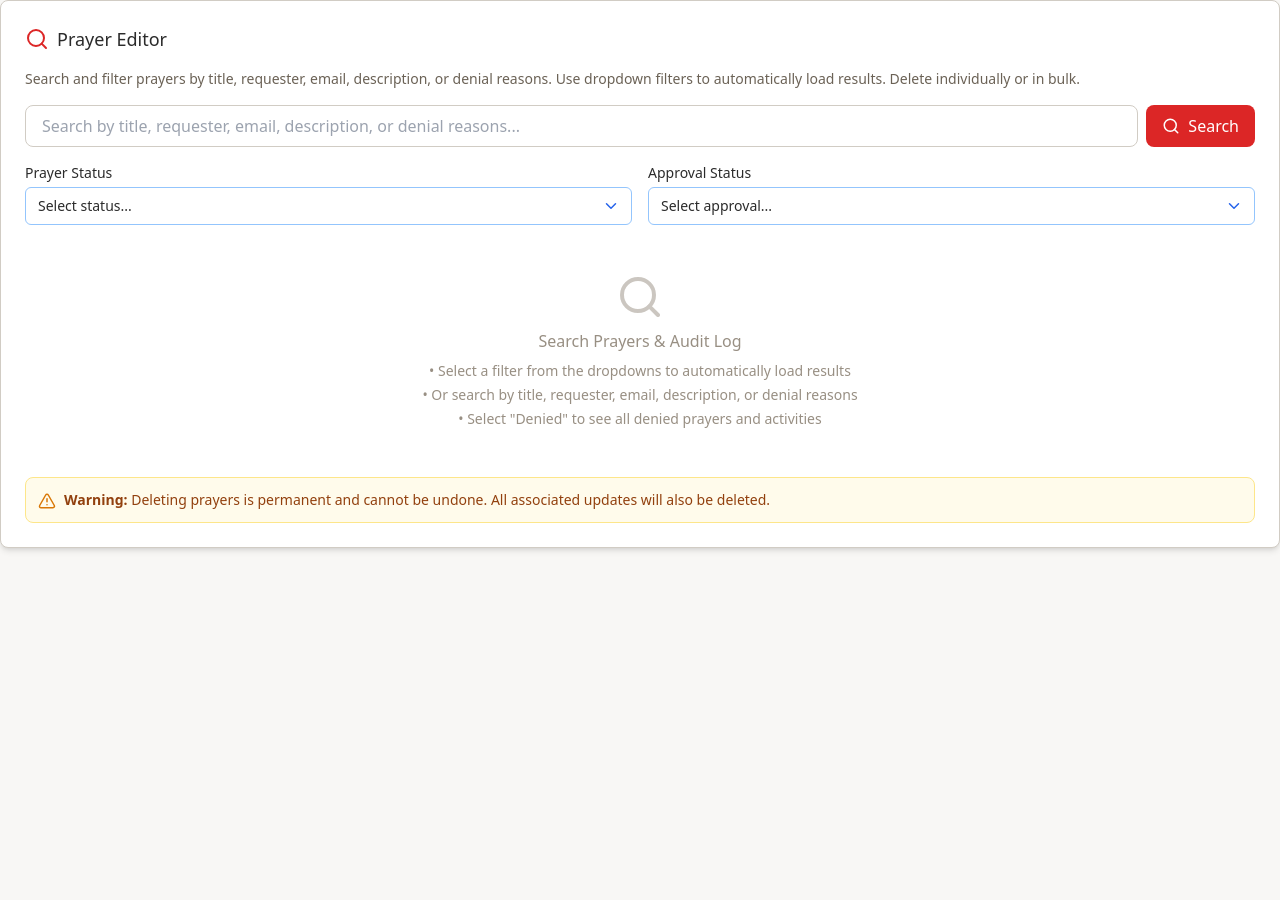
Test: PrayerSearch Component › Bulk Selection and Deletion › allows selecting individual prayers
This screenshot has width=1280, height=900.
Type "Test" into the field with placeholder "Search by title, requester, email, description, or denial reasons" at (582, 126), box [25,105,1138,147]
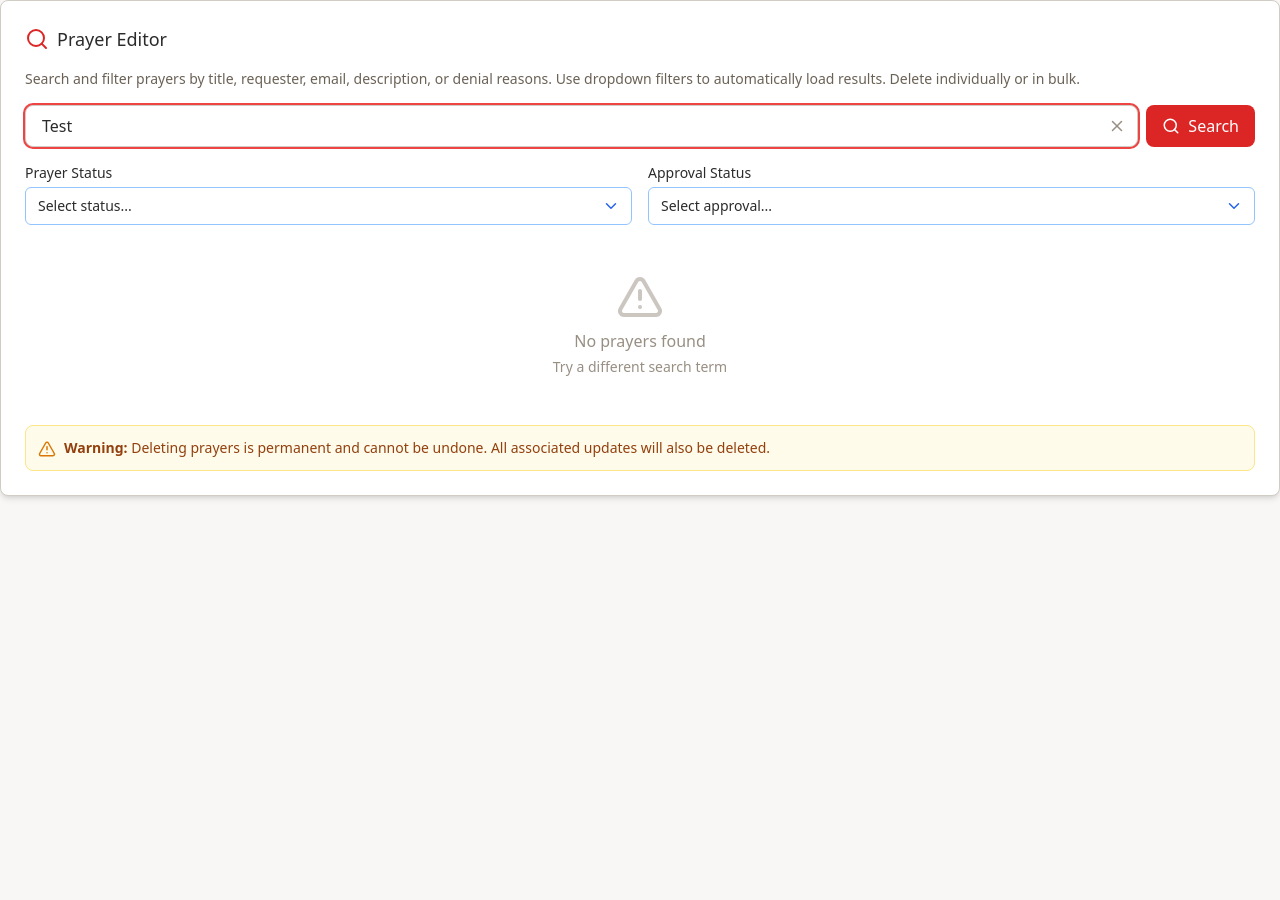
Click the button "Search" at (1201, 126), box [1146,105,1255,147]
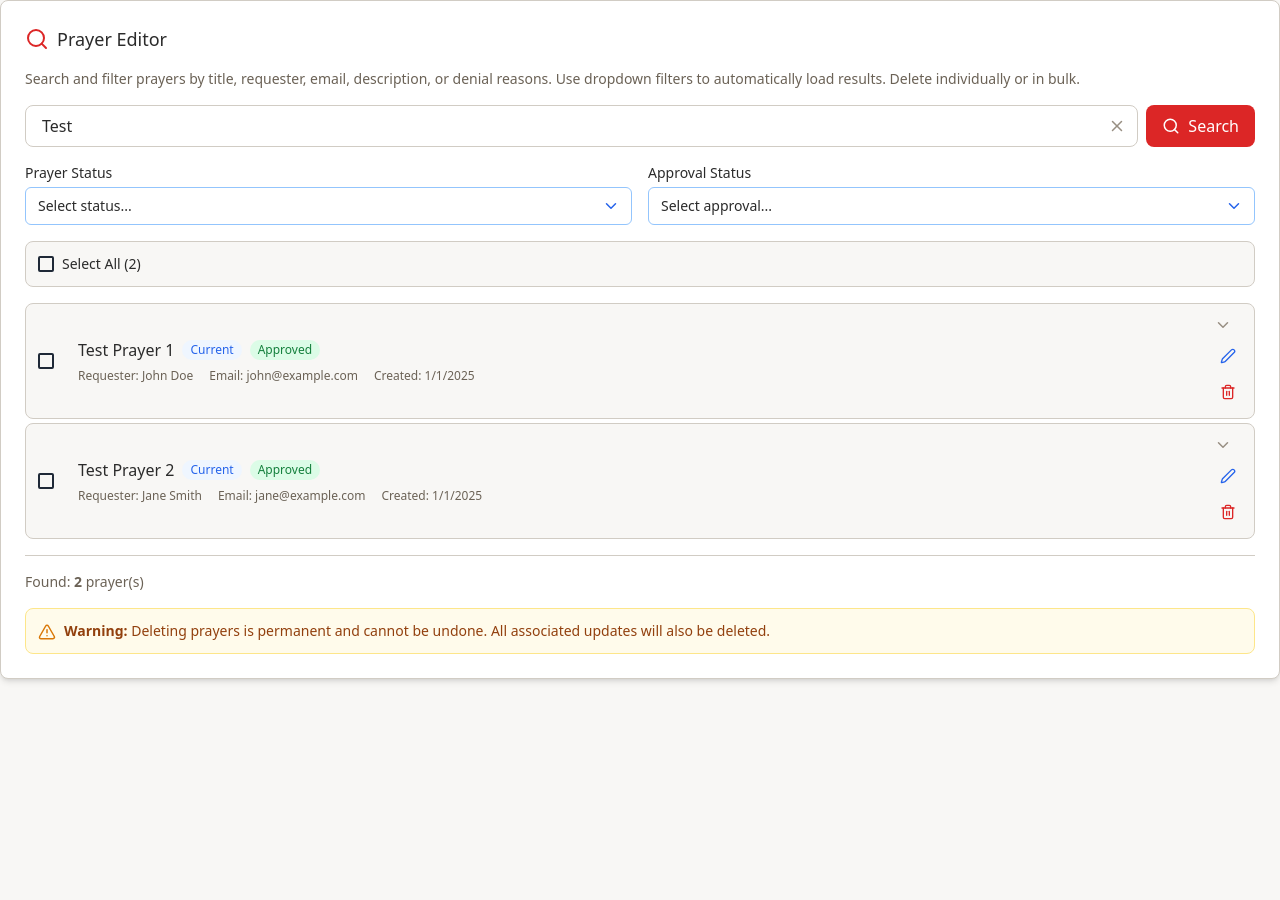
Expected: the heading "Test Prayer 1" is shown, [78,338,174,362]
Select first prayer checkbox
Click the 2nd checkbox at (46, 361), box [38,353,54,369]
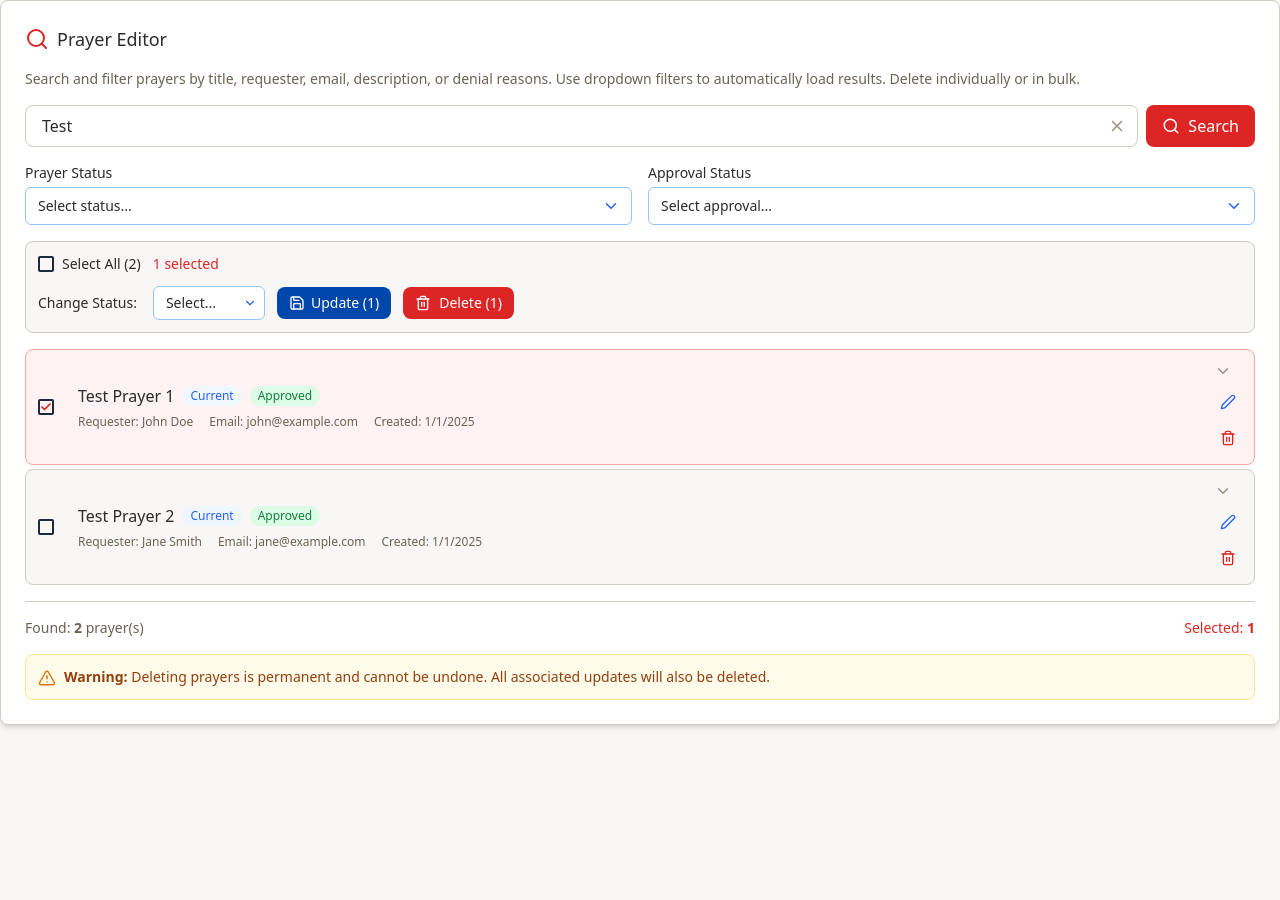
Expected: the text "1 selected" is shown, [153,254,219,274]
